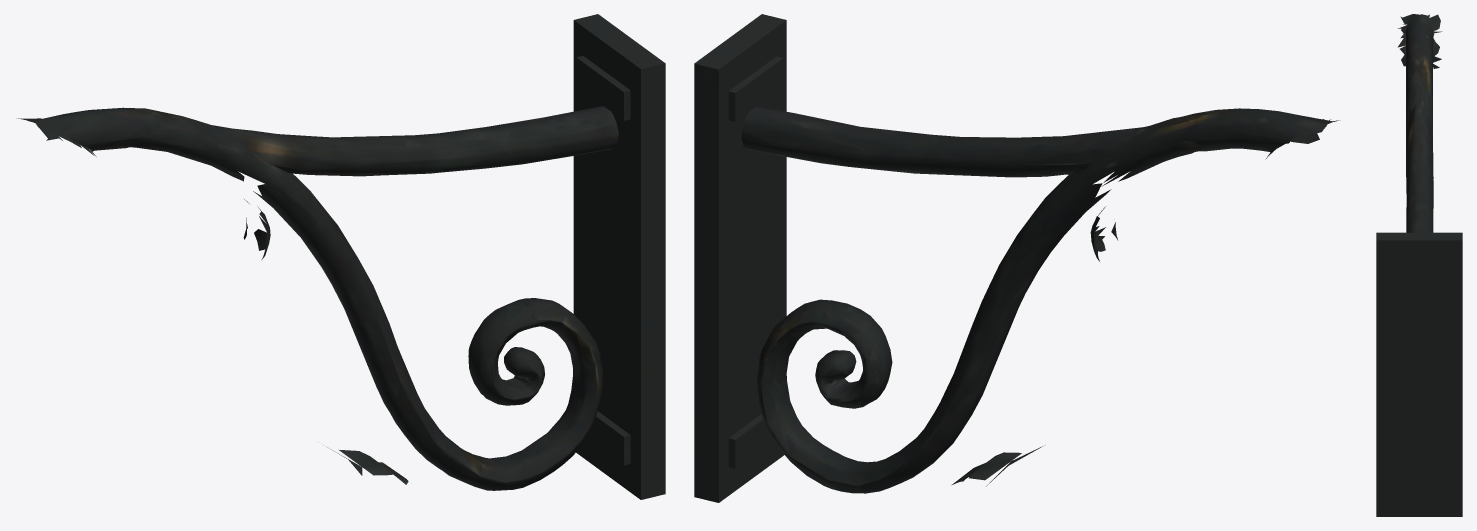
File: p2_wall_bracket.glb
3 renders of one model, left to right at view 1: azimuth 30°, elevation 25°; view 2: azimuth 150°, elevation 25°; view 3: azimuth 270°, elevation 25°, orthographic. The views are drawn at different scales.
Parts seen in each view (by area): view 1: main; view 2: main; view 3: main.
Boxes of the visible parts, bbox=[...] form: main: bbox=[16, 14, 665, 499]; main: bbox=[694, 14, 1340, 502]; main: bbox=[1376, 14, 1462, 516].
Size of the model in its own units: 0.3003 by 0.2339 by 0.0581.
Materials: 1 (1 with a texture image).
